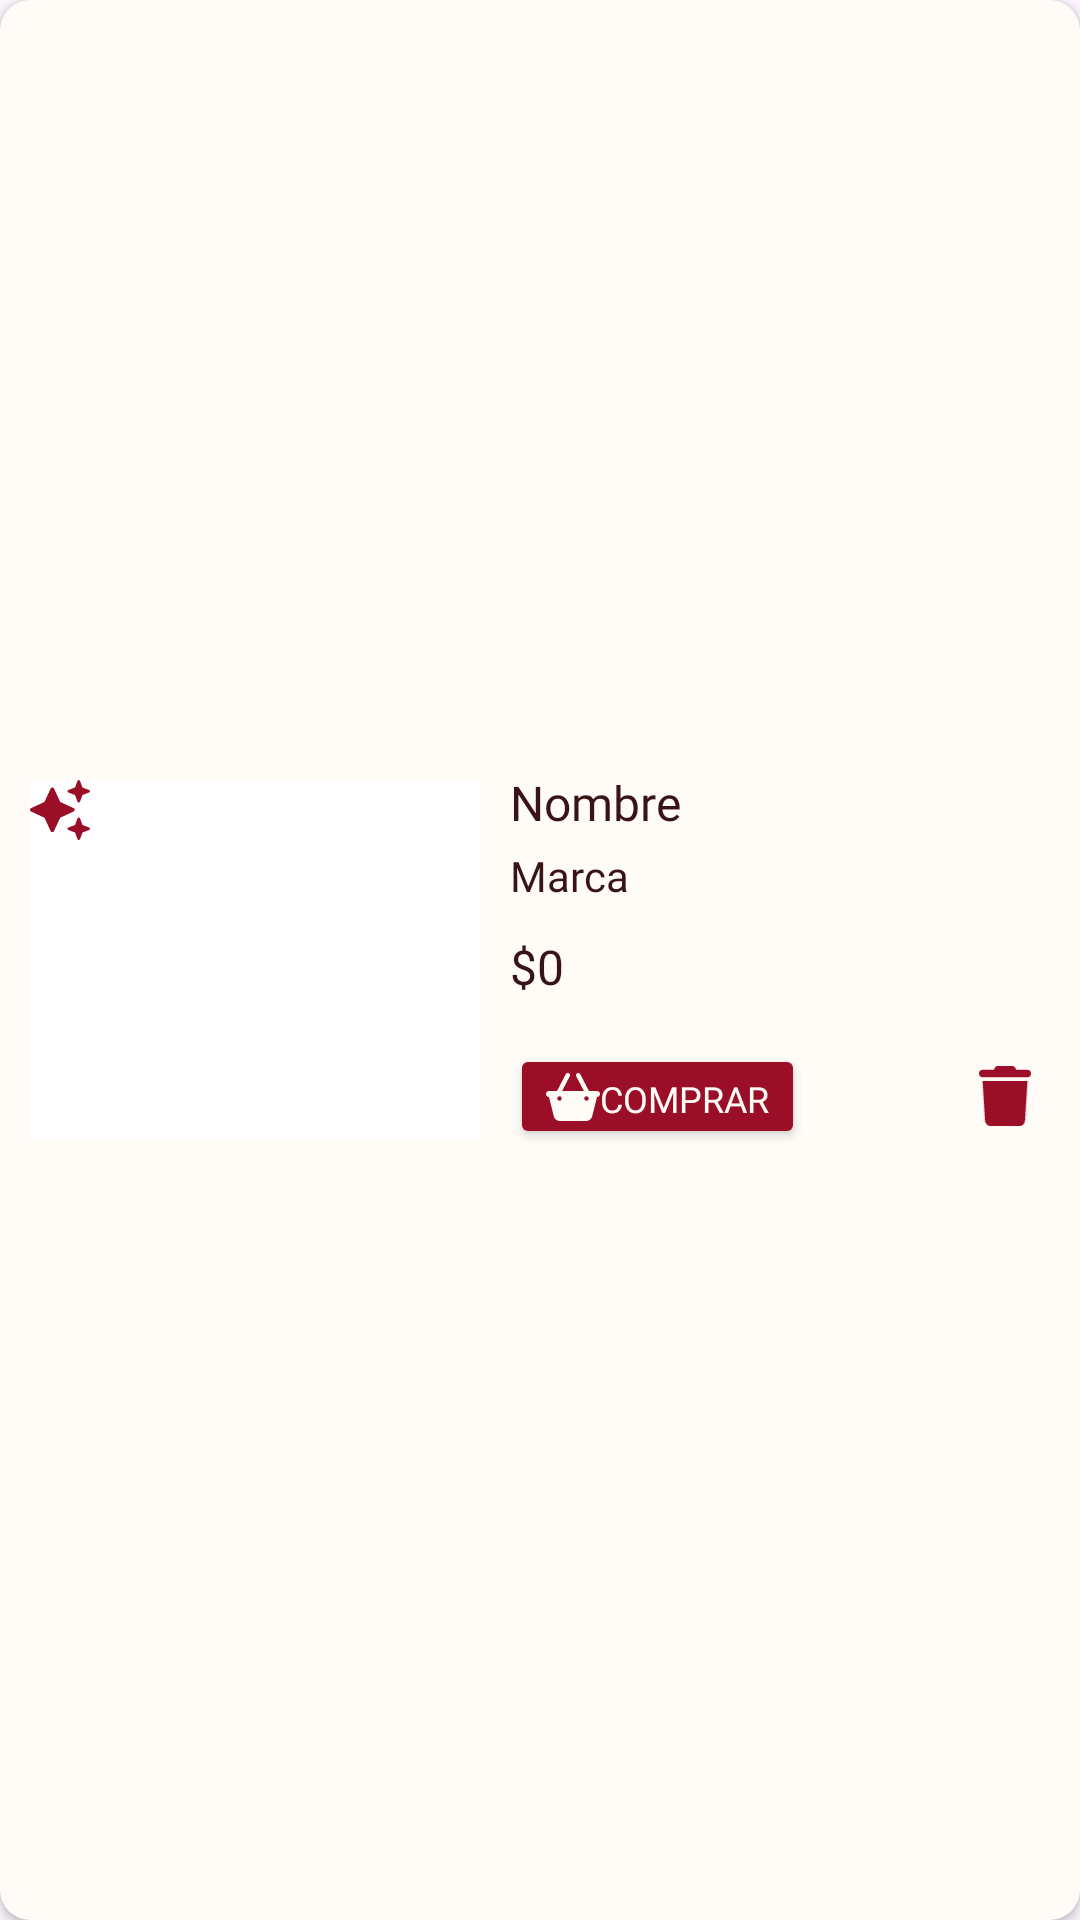

Icons on this 1080px x 1920px Android screen, each with its box as (x1, y1, x2, y2):
sparkles: (30, 780, 90, 840)
trash: (979, 1066, 1031, 1126)
